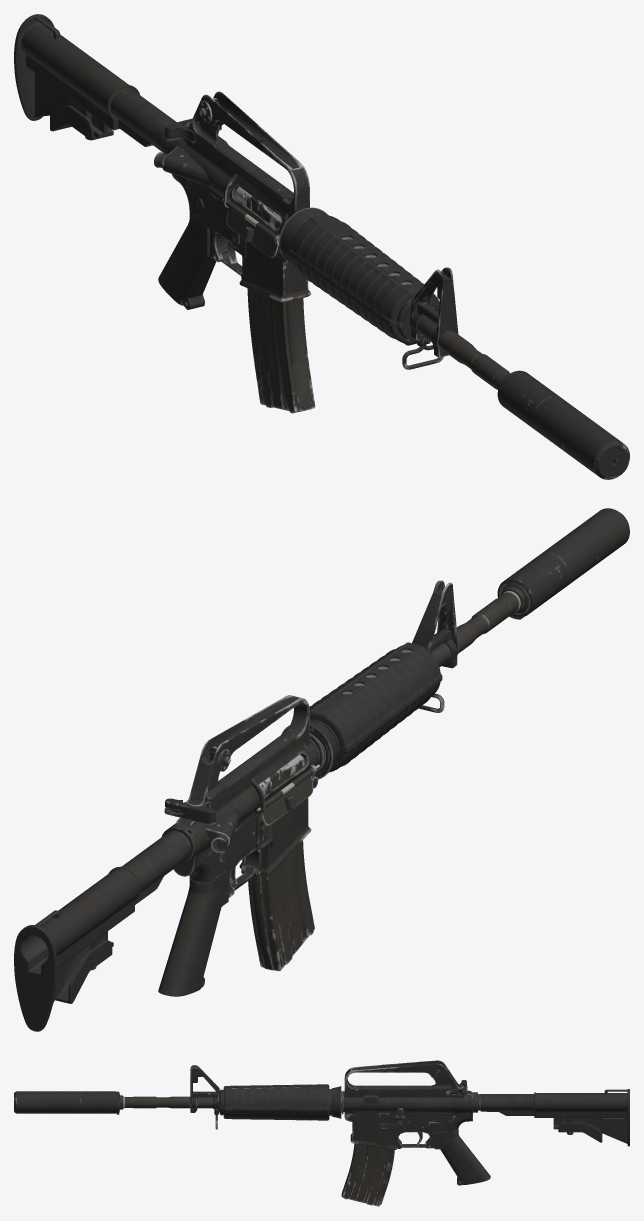
Rendered from m4-glb.glb.
3 renders of one model, top to bottom at view 1: azimuth 30°, elevation 25°; view 2: azimuth 150°, elevation 25°; view 3: azimuth 270°, elevation 25°, orthographic. The views are drawn at different scales.
Visible parts, largest first — view 1: M4A1S_CS2, Magazine; view 2: M4A1S_CS2, Magazine, ChargingHandle; view 3: M4A1S_CS2, Magazine.
Part boxes in pixels (x1,y1,x2,y2): M4A1S_CS2: [14, 14, 629, 479]; Magazine: [246, 193, 315, 413]; M4A1S_CS2: [14, 508, 629, 1031]; Magazine: [248, 757, 314, 971]; ChargingHandle: [164, 798, 216, 824]; M4A1S_CS2: [14, 1060, 629, 1185]; Magazine: [341, 1143, 394, 1206].
Bounding box in the file's own units: 0.0781 × 0.2994 × 1.18.
1 material, 1 textured.
